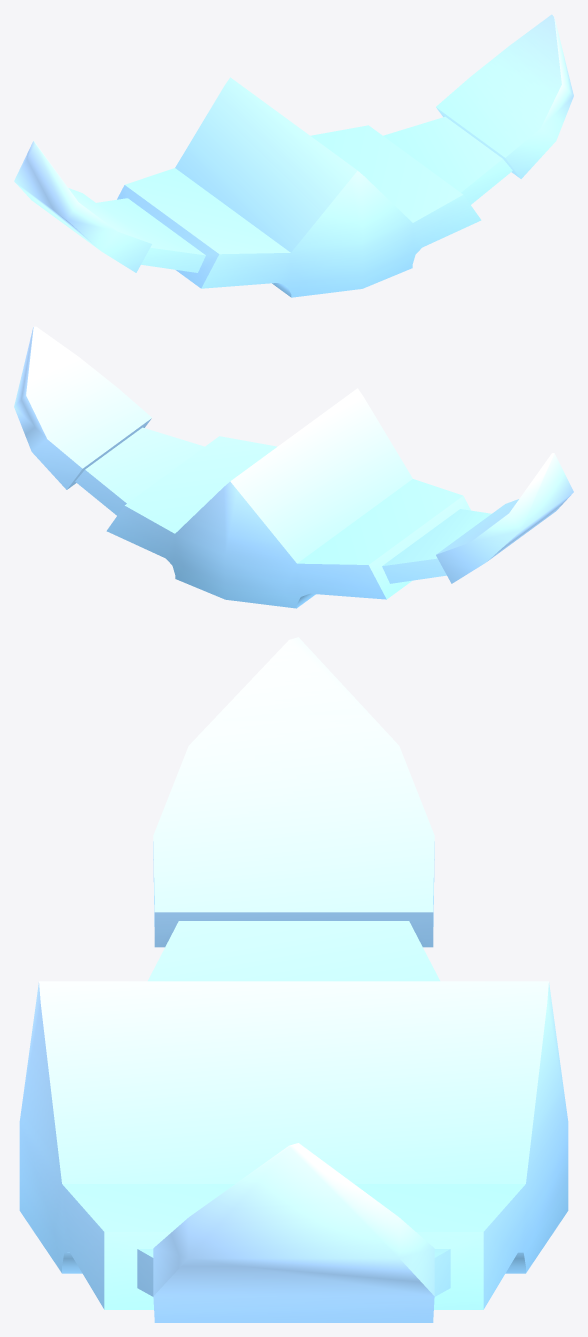
Rendered from steel_guard_048.glb.
3 views of the same model, one above another, from view 1: azimuth 30°, elevation 25°; view 2: azimuth 150°, elevation 25°; view 3: azimuth 270°, elevation 25° (orthographic). The views are drawn at different scales.
Parts seen in each view (by area): view 1: steel_guard_048; view 2: steel_guard_048; view 3: steel_guard_048.
Boxes of the visible parts, <box> form: steel_guard_048: <box>14,14,573,297</box>; steel_guard_048: <box>14,326,573,608</box>; steel_guard_048: <box>19,637,568,1322</box>.
Size of the model in its own units: 5.66 by 1.69 by 2.59.
Materials: 1 (1 with a texture image).
